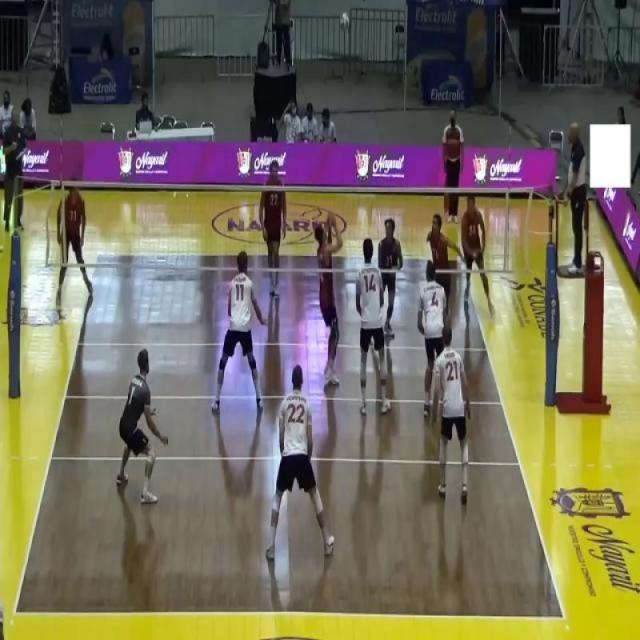volleyball: (339, 12, 350, 30)
